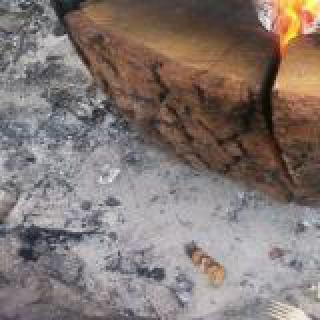fire: (230, 0, 320, 44)
